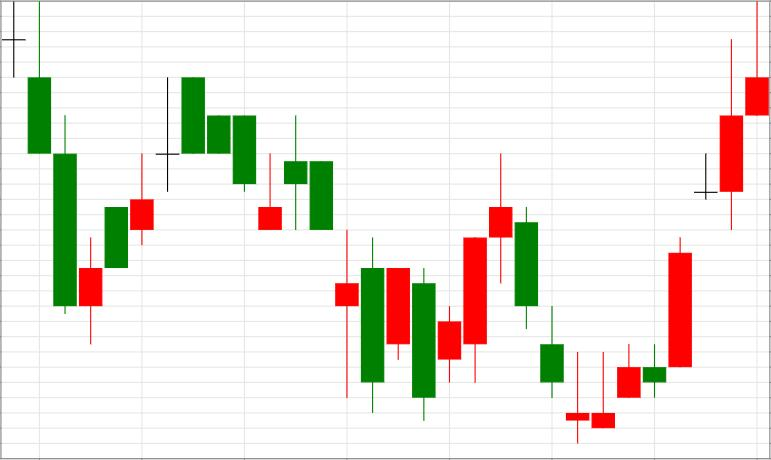shooting_star_fall: (567, 2, 768, 443)
